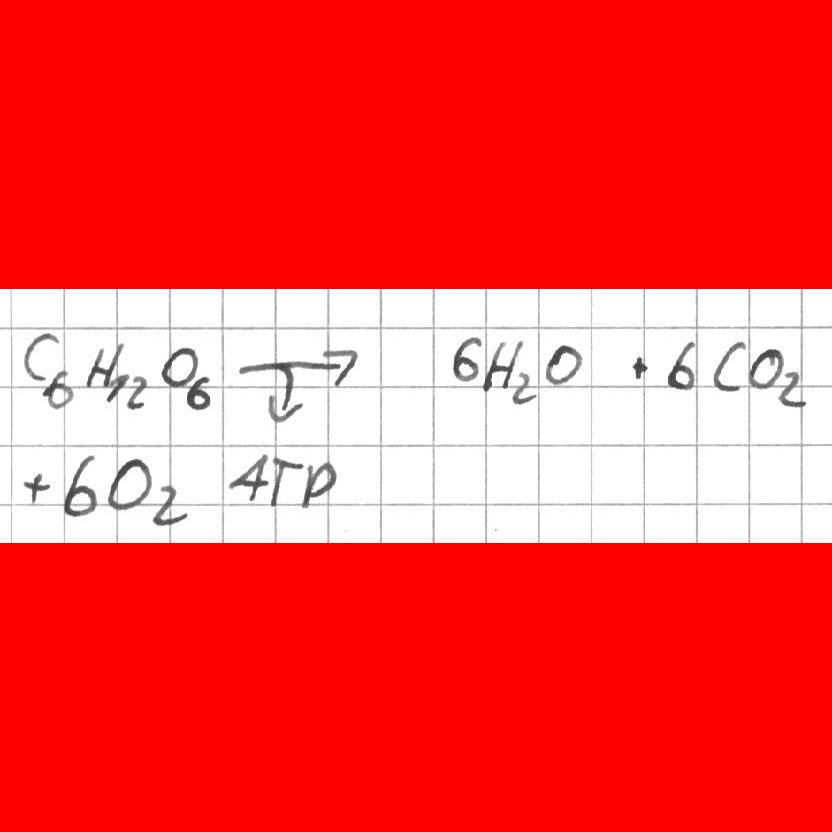Char: (106, 454, 154, 510), (60, 452, 97, 519), (296, 459, 342, 508), (17, 329, 60, 381), (225, 450, 268, 502), (264, 451, 301, 507), (486, 336, 523, 391), (710, 338, 746, 393), (82, 339, 122, 387), (542, 343, 583, 389), (662, 338, 698, 389), (148, 483, 190, 526), (158, 345, 196, 389), (451, 331, 482, 383), (748, 343, 780, 388), (40, 367, 73, 408), (776, 367, 808, 408), (508, 366, 539, 404), (21, 467, 50, 504), (183, 376, 214, 410), (126, 372, 152, 410), (104, 369, 130, 403), (629, 351, 648, 381)
